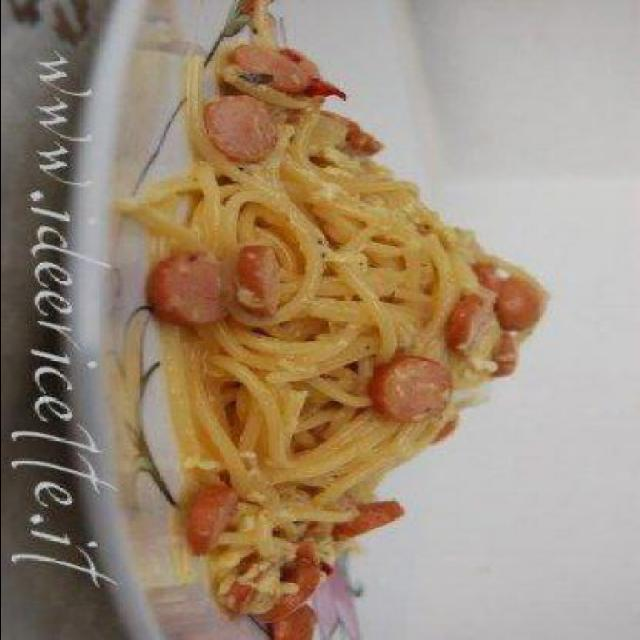Pasta with carbonara sauce: (116, 35, 602, 637)
